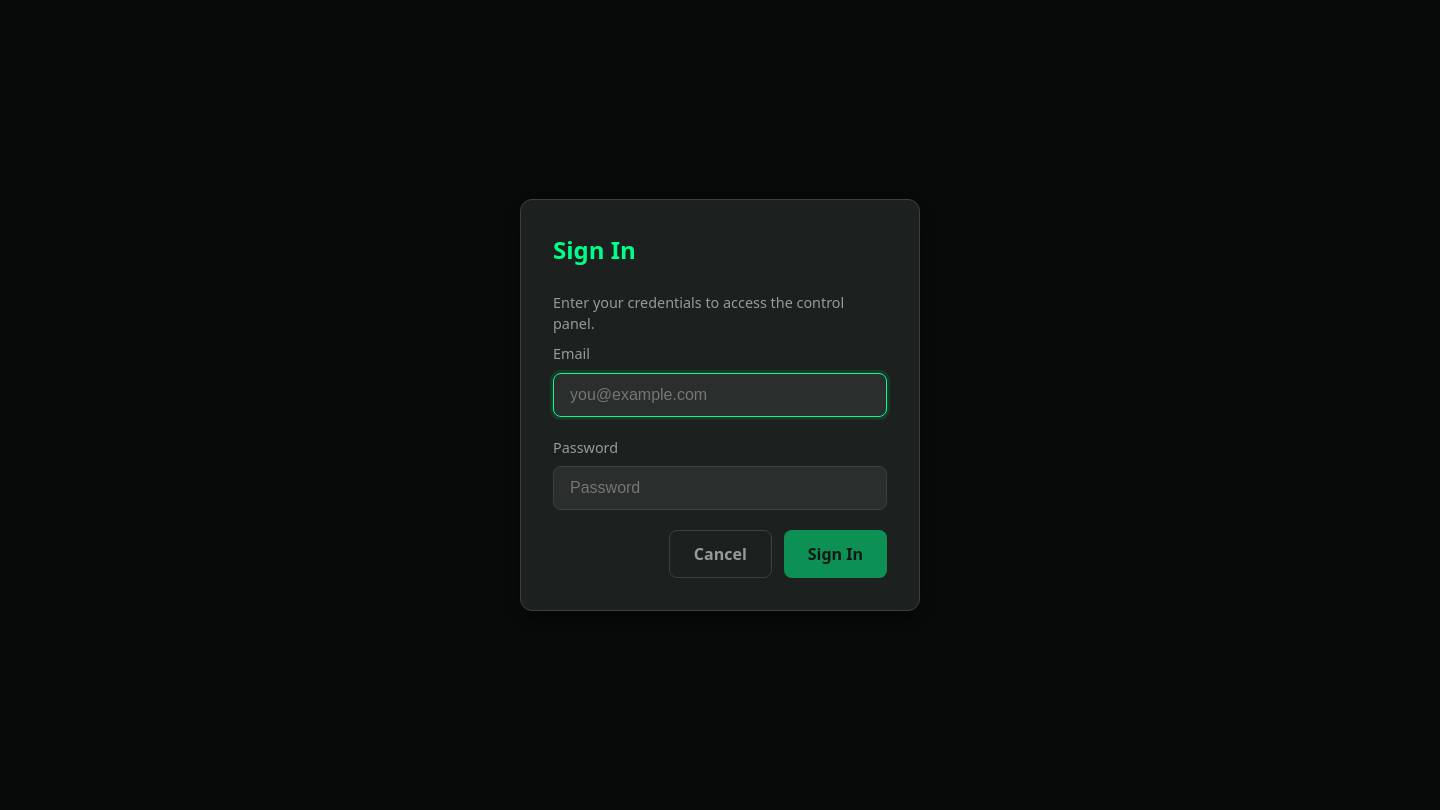
LoginDialog › Lambda authentication (VITE_LAMBDA_URL set) › invalid credentials shows error from Lambda
Type "operator@rideshare.com" into the field labelled "Email" at point(720, 395), box x1=553 y1=373 x2=887 y2=417
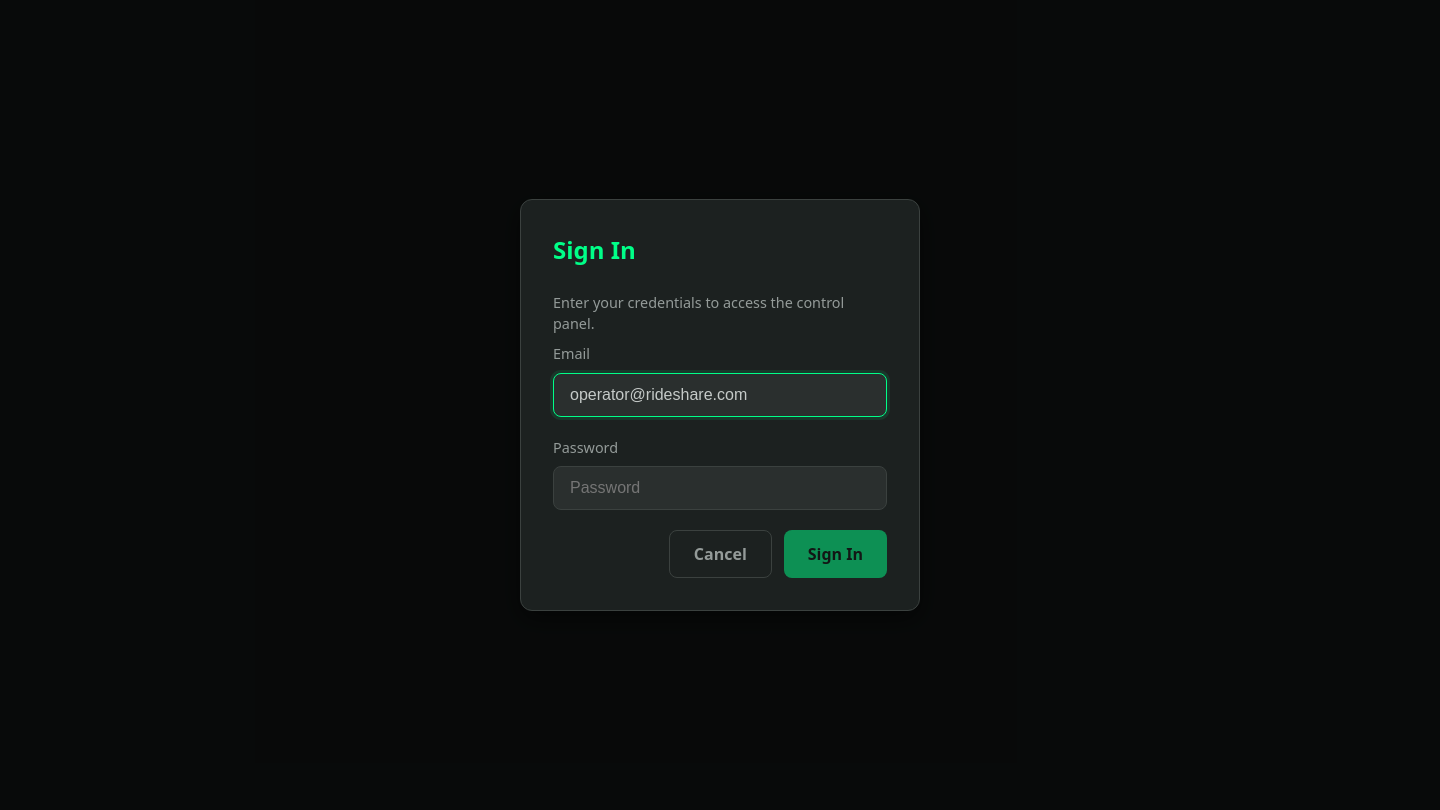
Type "wrong-password" into the password field labelled "Password" at point(720, 488), box x1=553 y1=466 x2=887 y2=510
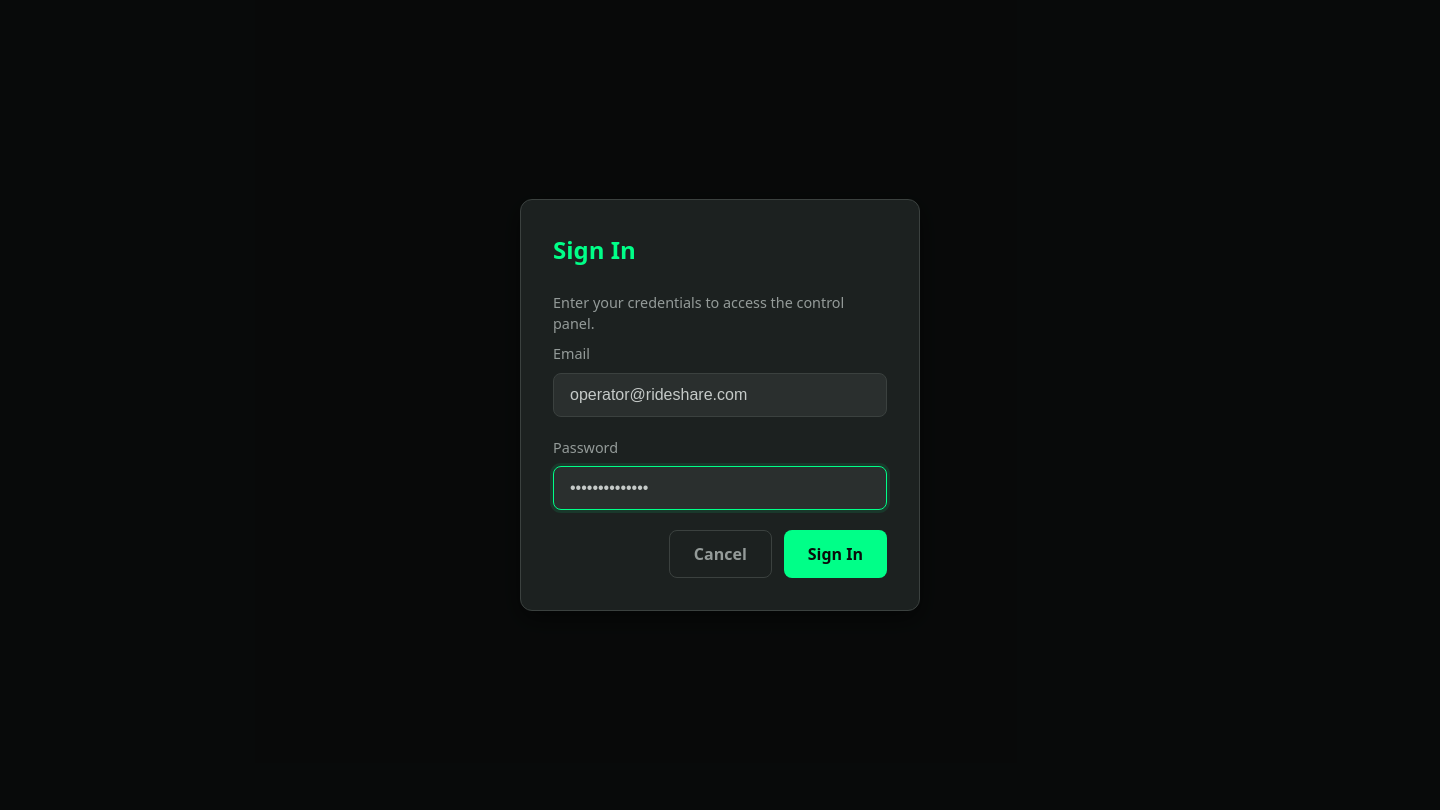
Click the button "Sign In" at point(835, 554), box x1=784 y1=530 x2=887 y2=578
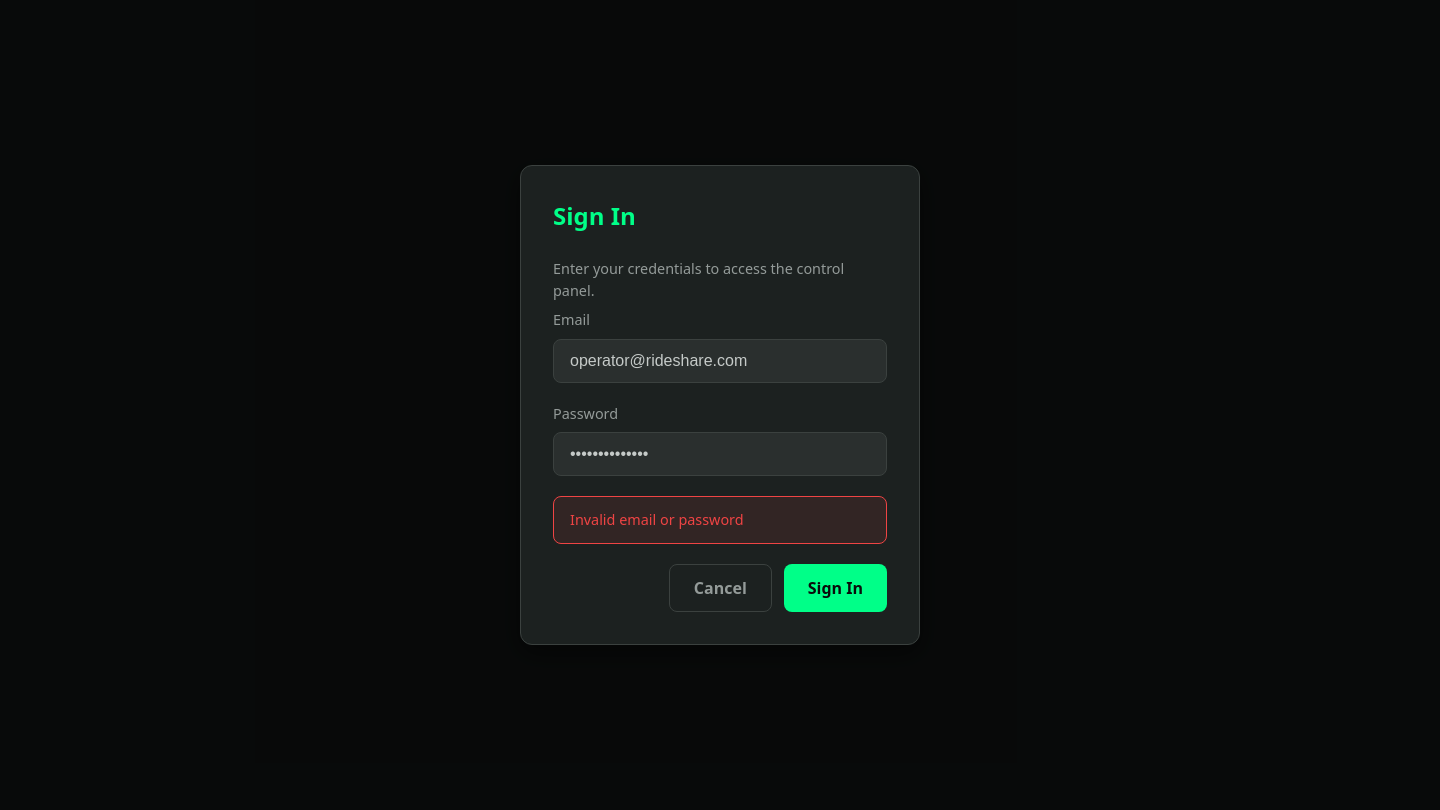
Result: the text "Invalid email or password" is shown at x1=553 y1=496 x2=887 y2=544
